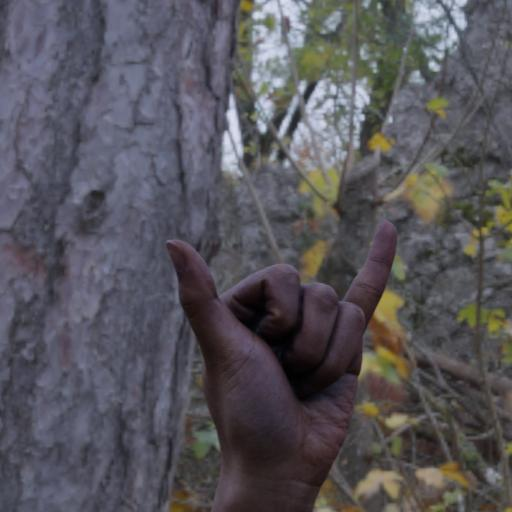Y: (139, 212, 431, 509)
